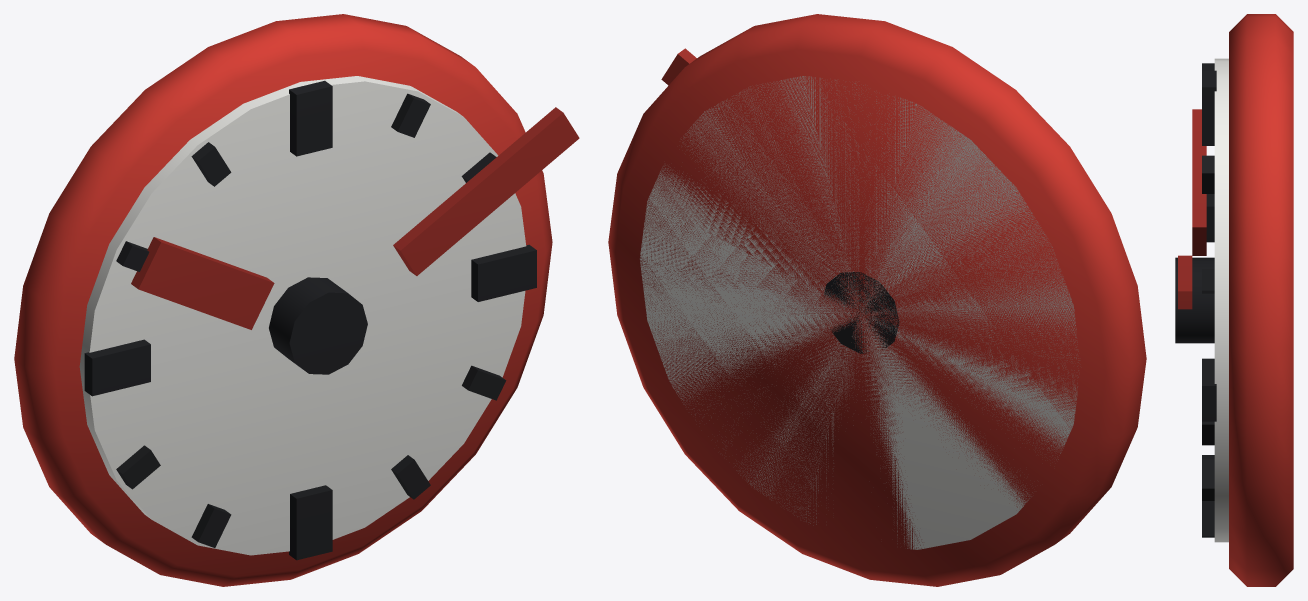
The model's file is ShopClock_01.glb.
The picture shows the model from 3 angles, left to right: view 1: azimuth 30°, elevation 25°; view 2: azimuth 150°, elevation 25°; view 3: azimuth 270°, elevation 25°; orthographic projection. The views are drawn at different scales.
Parts seen in each view (by area): view 1: SM_ShopClock_01; view 2: SM_ShopClock_01; view 3: SM_ShopClock_01.
Boxes of the visible parts, x1=… form: SM_ShopClock_01: x1=14, y1=14, x2=579, y2=586; SM_ShopClock_01: x1=608, y1=14, x2=1146, y2=586; SM_ShopClock_01: x1=1175, y1=14, x2=1293, y2=586.
Bounding box in the file's own units: 0.32 × 0.32 × 0.066.
1 material, 1 textured.
